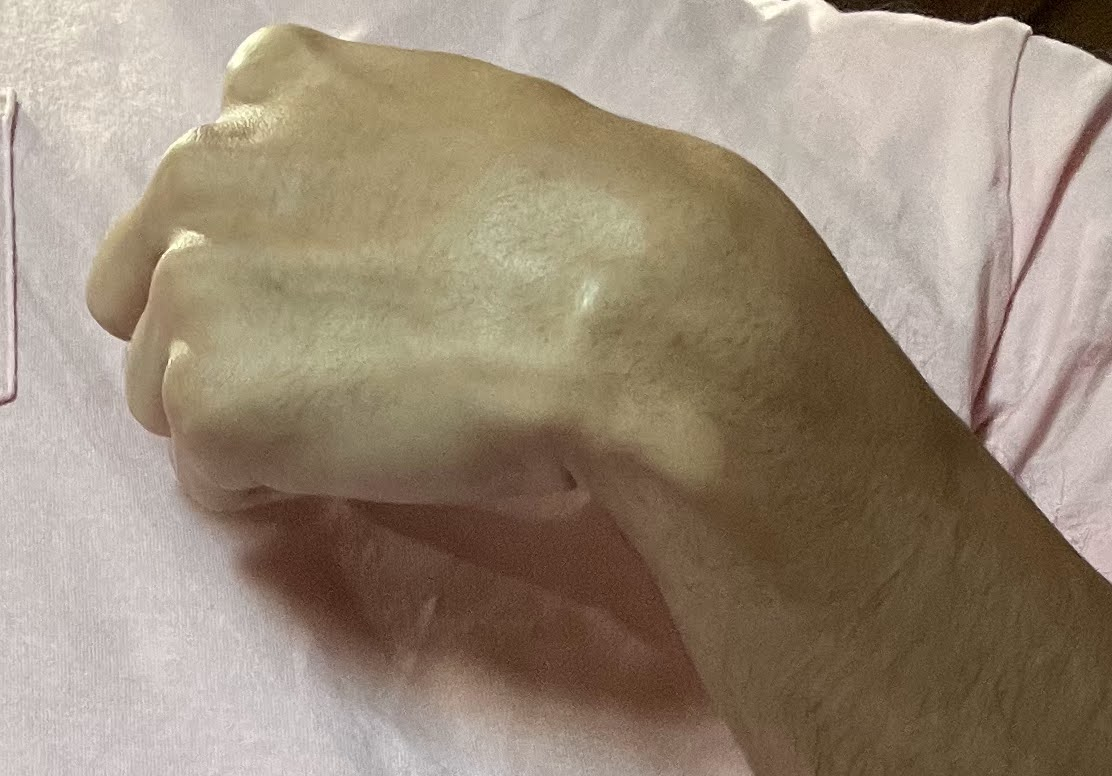I: (73, 20, 844, 569)
